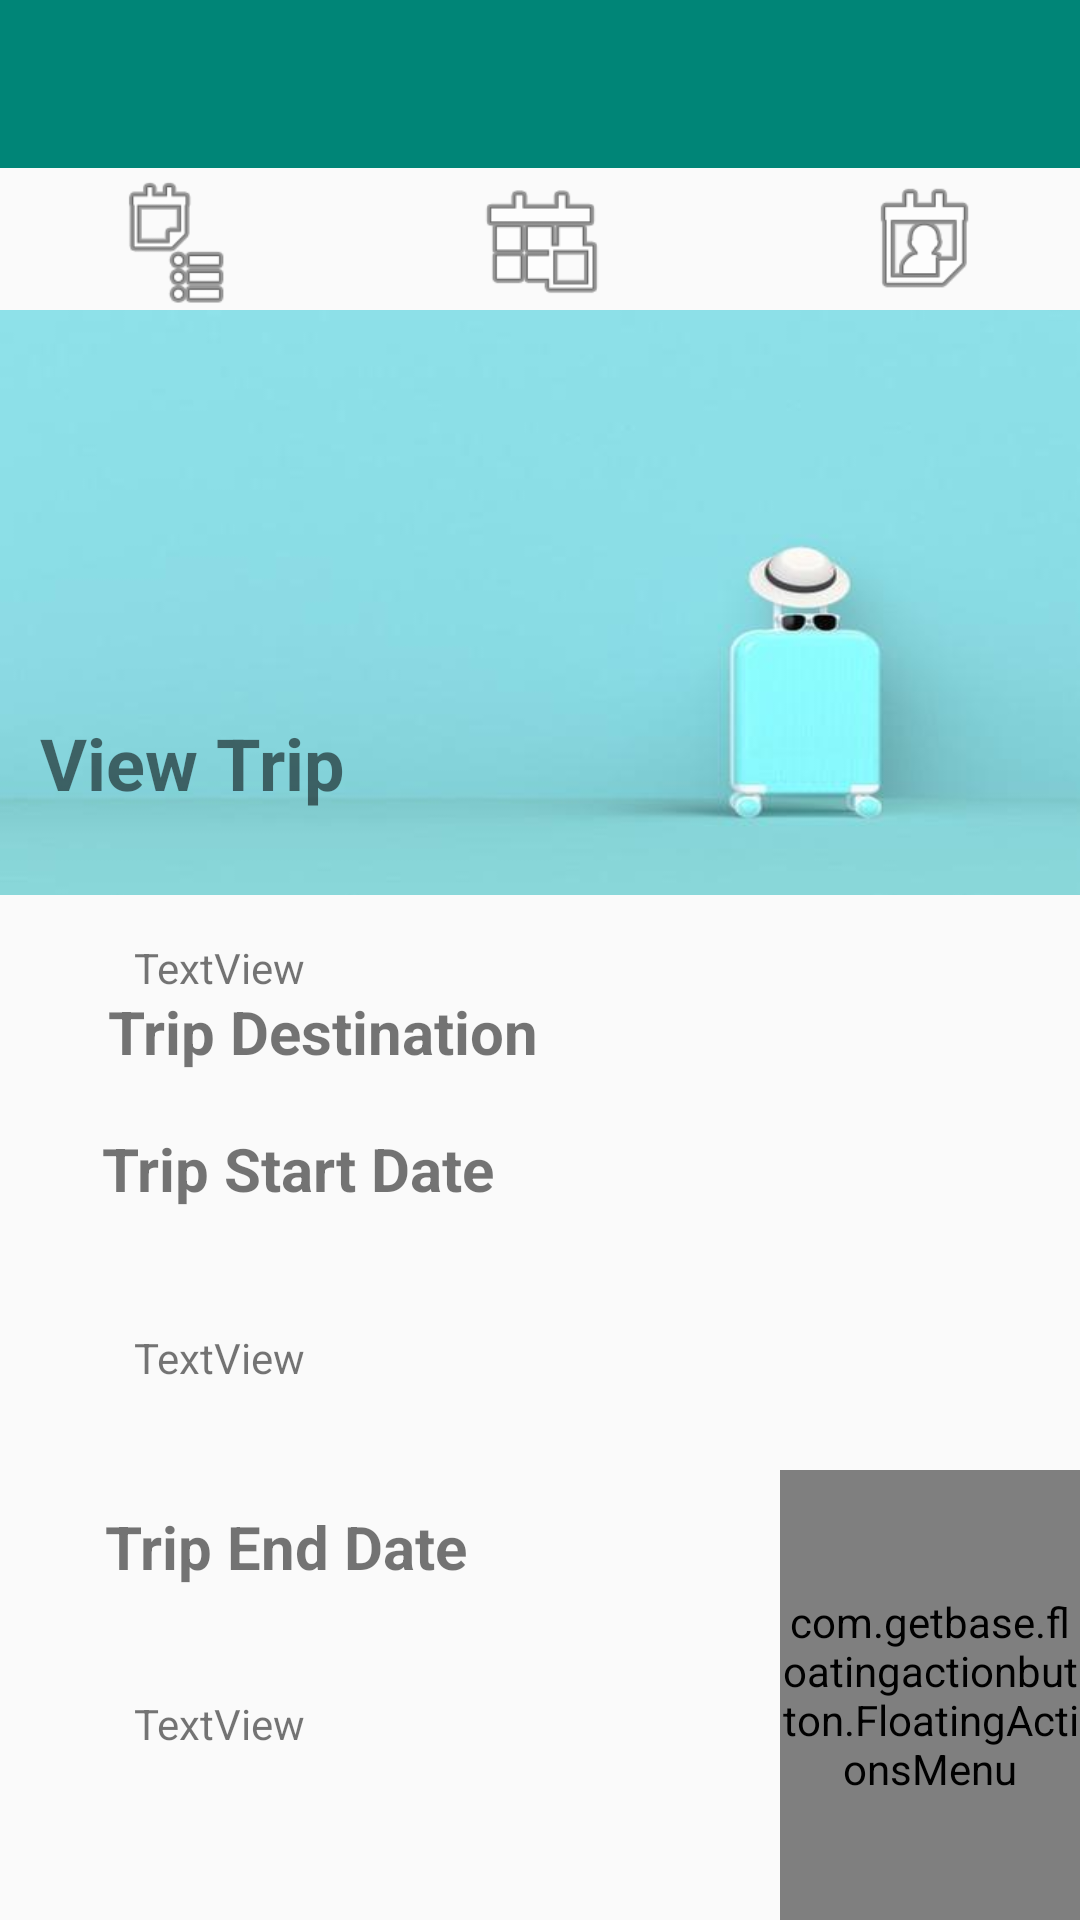

Icons on this 1080 x 1920 Android screen, each with the point to tap as [x,y]:
agenda: [176,243]
